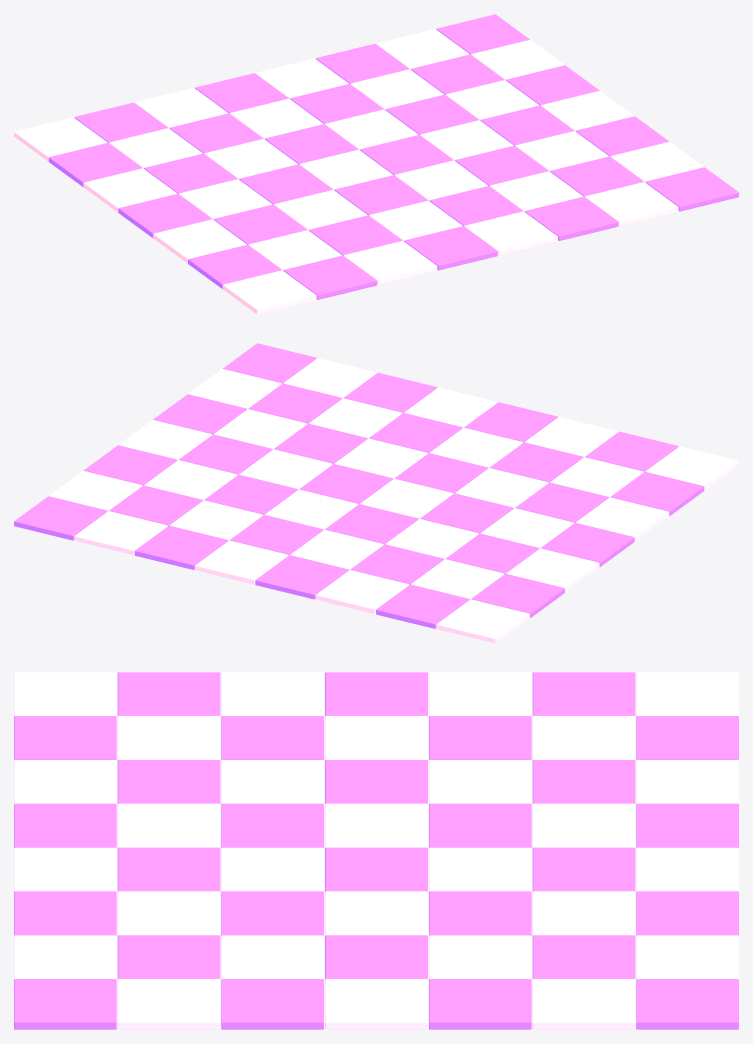
The picture shows the model from 3 angles, top to bottom: view 1: azimuth 30°, elevation 25°; view 2: azimuth 150°, elevation 25°; view 3: azimuth 270°, elevation 25°; orthographic projection. The views are drawn at different scales.
Parts seen in each view (by area): view 1: tile_0_0, tile_0_6, tile_0_4, tile_0_7, tile_0_1, tile_0_5, tile_0_2, tile_0_3, tile_4_0, tile_3_0, tile_5_0, tile_1_0 (+44 smaller); view 2: tile_6_0, tile_6_6, tile_6_4, tile_6_7, tile_6_1, tile_6_5, tile_6_2, tile_6_3, tile_2_0, tile_3_0, tile_1_0, tile_4_0 (+44 smaller); view 3: tile_1_7, tile_5_7, tile_0_7, tile_2_7, tile_3_7, tile_4_7, tile_6_7, tile_1_3, tile_1_4, tile_1_5, tile_5_3, tile_5_4 (+44 smaller).
Boxes of the visible parts, x1,y1,x2,y2 form: tile_0_0: (223, 270, 316, 314); tile_0_6: (585, 182, 678, 226); tile_0_4: (464, 211, 557, 255); tile_0_7: (645, 167, 738, 211); tile_0_1: (283, 255, 376, 299); tile_0_5: (524, 196, 618, 240); tile_0_2: (343, 241, 437, 285); tile_0_3: (404, 226, 497, 270); tile_4_0: (83, 168, 177, 212); tile_3_0: (118, 193, 211, 237); tile_5_0: (48, 143, 142, 187); tile_1_0: (188, 244, 281, 289); tile_6_0: (436, 599, 529, 643); tile_6_6: (74, 511, 167, 555); tile_6_4: (195, 540, 288, 584); tile_6_7: (14, 496, 107, 540); tile_6_1: (376, 584, 469, 628); tile_6_5: (134, 525, 228, 569); tile_6_2: (315, 570, 409, 614); tile_6_3: (255, 555, 348, 599); tile_2_0: (575, 497, 669, 541); tile_3_0: (541, 522, 634, 566); tile_1_0: (610, 472, 704, 516); tile_4_0: (506, 548, 599, 592); tile_1_7: (117, 979, 220, 1029); tile_5_7: (532, 979, 635, 1029); tile_0_7: (14, 979, 116, 1029); tile_2_7: (221, 979, 323, 1029); tile_3_7: (325, 979, 427, 1029); tile_4_7: (429, 979, 531, 1029); tile_6_7: (636, 979, 738, 1029); tile_1_3: (117, 803, 220, 847); tile_1_4: (117, 847, 220, 891); tile_1_5: (117, 891, 220, 935); tile_5_3: (532, 803, 635, 847); tile_5_4: (532, 847, 635, 891).
Bounding box in the file's own units: 4.79 × 0.05 × 4.19.
